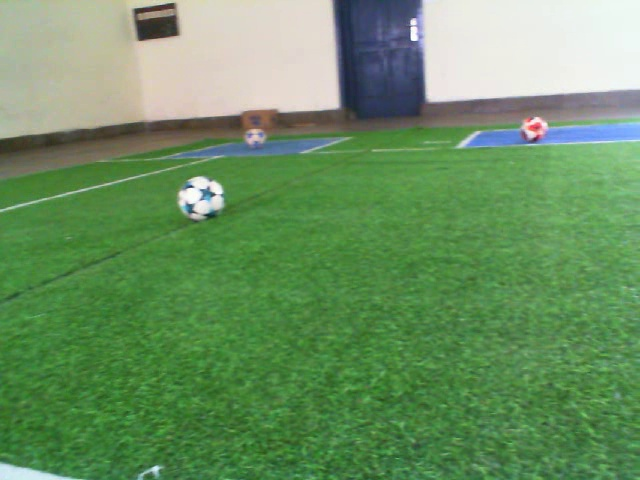ball: (175, 172, 227, 223), (519, 114, 550, 144), (243, 126, 268, 151)
